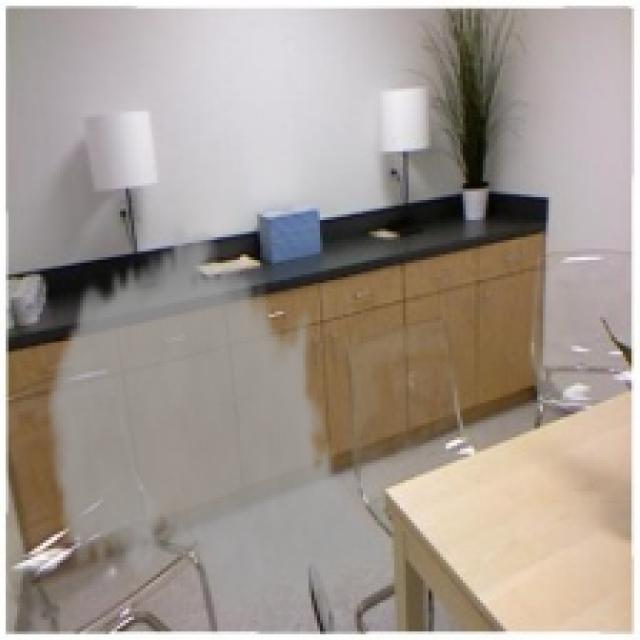smoke: (43, 214, 386, 637)
